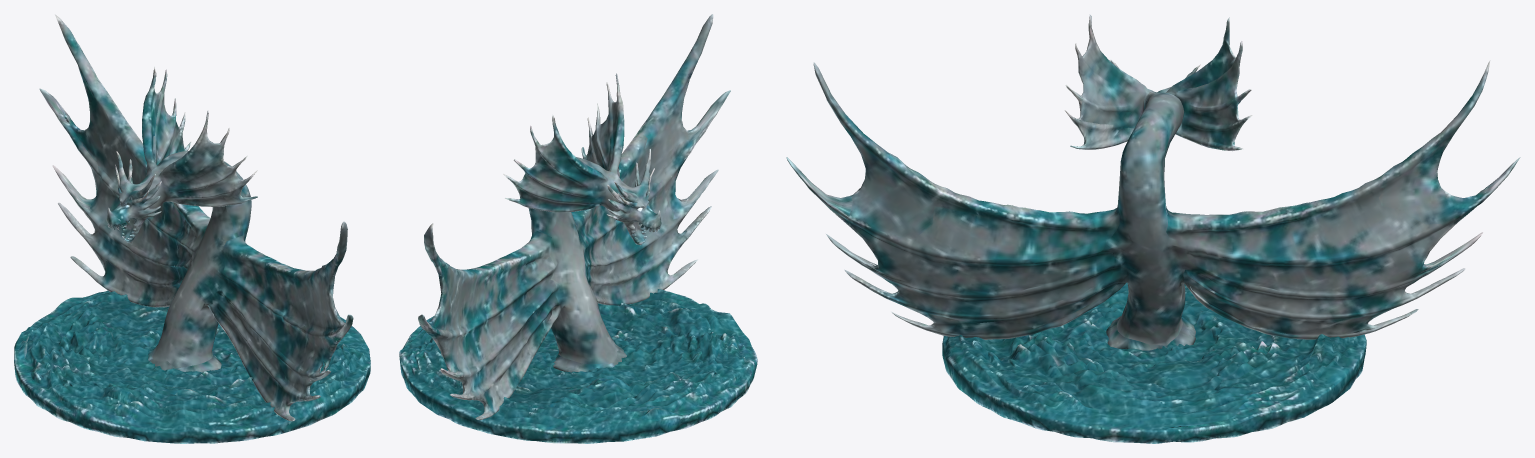
File: MZ4250 - Leviathan.glb
3 views of the same model, side by side, from view 1: azimuth 30°, elevation 25°; view 2: azimuth 150°, elevation 25°; view 3: azimuth 270°, elevation 25° (orthographic). The views are drawn at different scales.
Visible parts, largest first — view 1: Cylinder.001; view 2: Cylinder.001; view 3: Cylinder.001.
Part boxes in pixels (x1=…): Cylinder.001: x1=14, y1=14, x2=370, y2=443; Cylinder.001: x1=399, y1=14, x2=757, y2=443; Cylinder.001: x1=786, y1=14, x2=1520, y2=443.
Size of the model in its own units: 3.61 by 3.13 by 6.25.
Materials: 1 (1 with a texture image).
